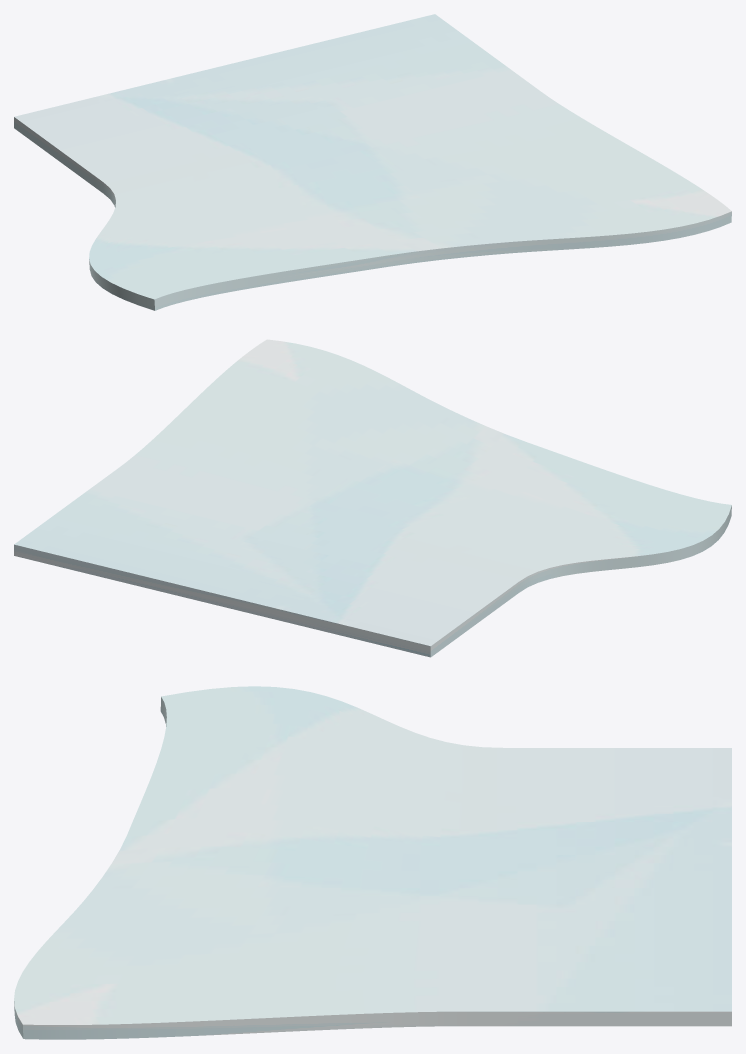
Rendered from ice_sheet4.obj.
The picture shows the model from 3 angles, top to bottom: view 1: azimuth 30°, elevation 25°; view 2: azimuth 150°, elevation 25°; view 3: azimuth 270°, elevation 25°; orthographic projection. The views are drawn at different scales.
Visible parts, largest first — view 1: pCube8; view 2: pCube8; view 3: pCube8.
Part boxes in pixels (x1=…): pCube8: x1=14, y1=14, x2=731, y2=310; pCube8: x1=14, y1=339, x2=731, y2=657; pCube8: x1=14, y1=686, x2=731, y2=1039.
Size of the model in its own units: 3.45 by 0.0694 by 3.09.
